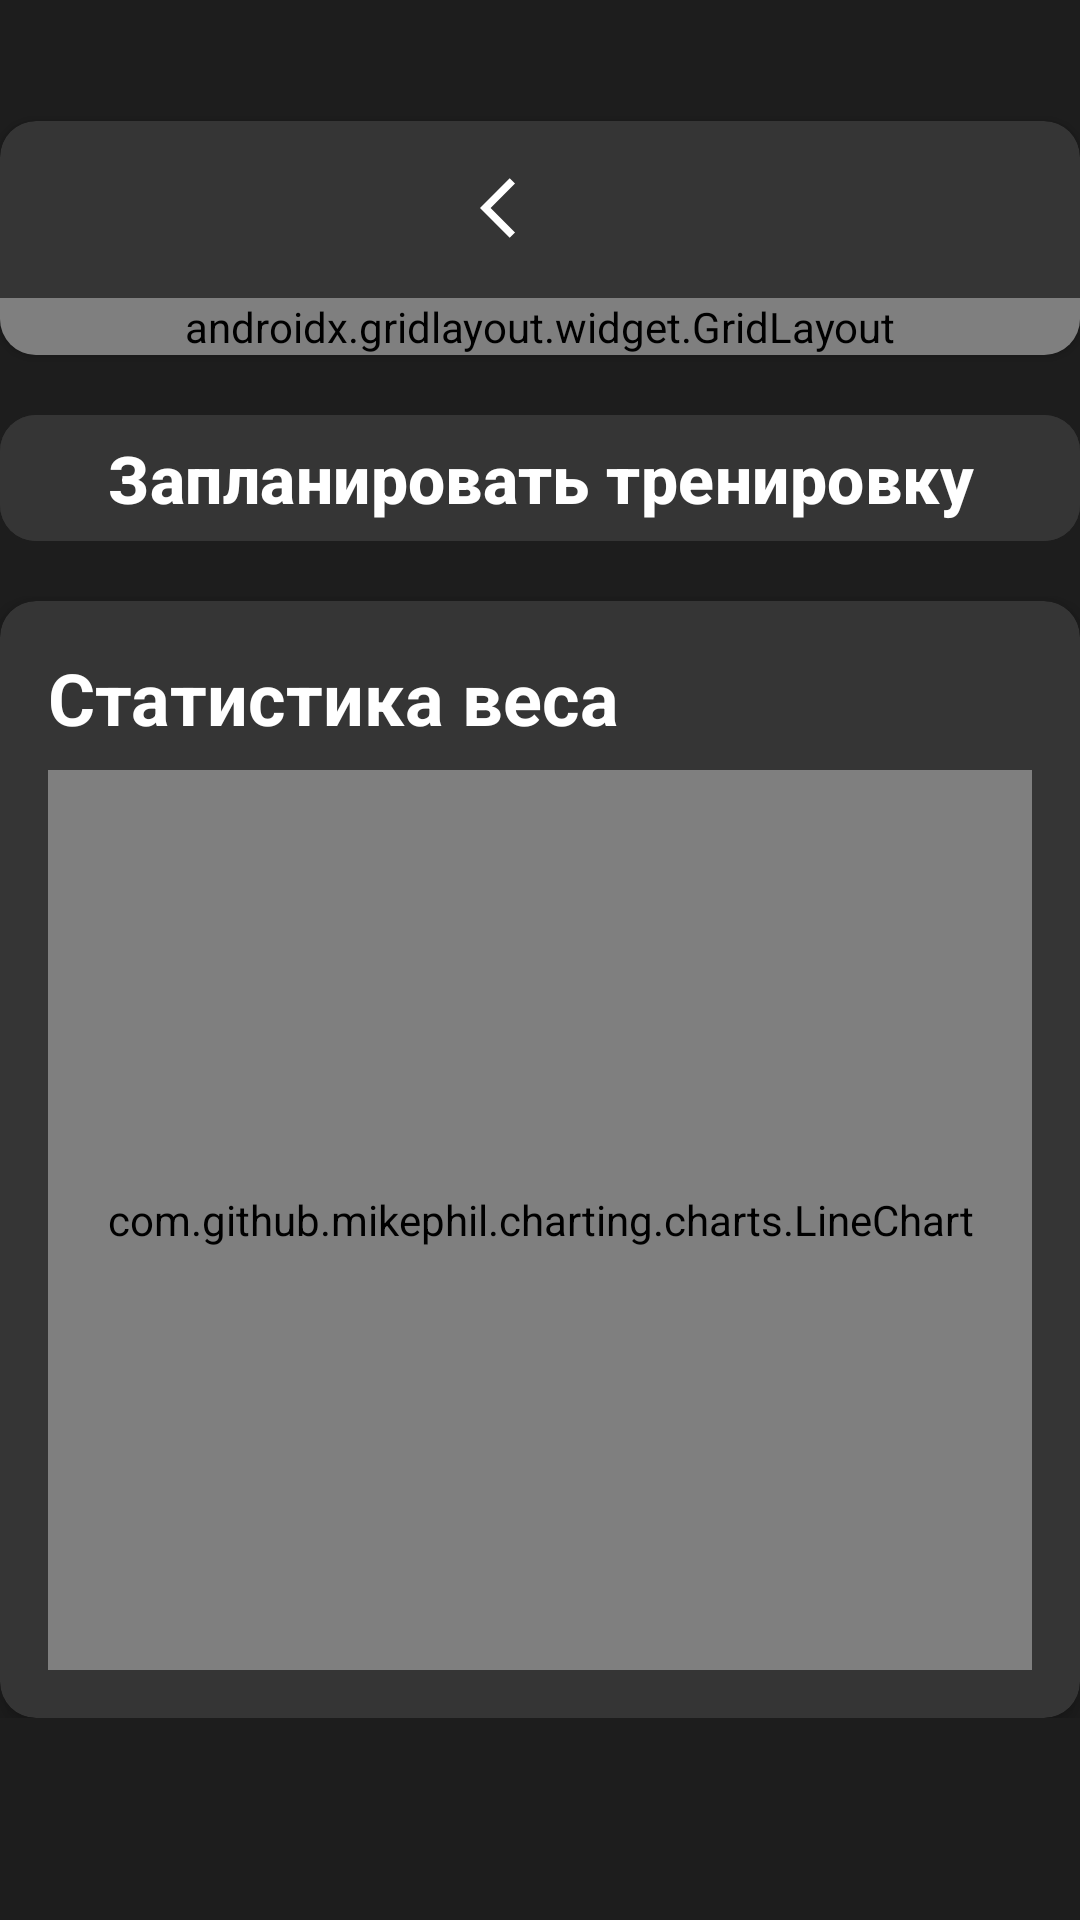

Named icons in this screenshot (1080*1920) and their bounding boxes, box(x1, y1, x2, y2):
arrow left: box(480, 178, 515, 238)
